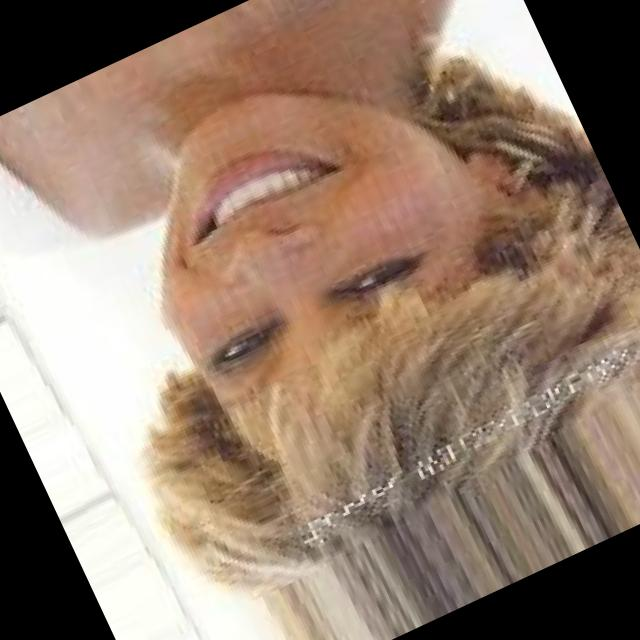bareface: (37, 0, 562, 467)
